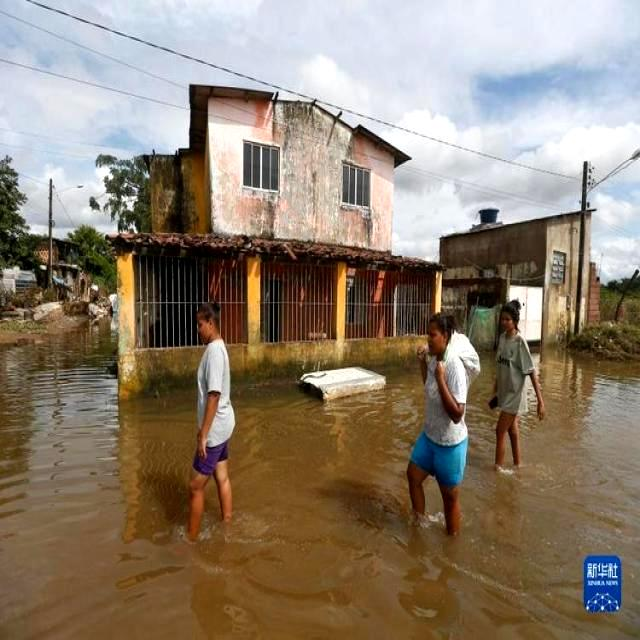civilian: (407, 302, 480, 545), (190, 296, 243, 538), (492, 299, 532, 474)
